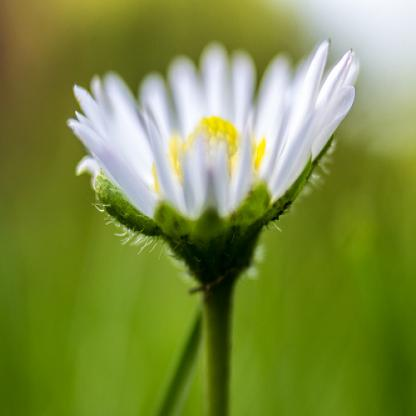ASTER: (47, 24, 390, 300)
